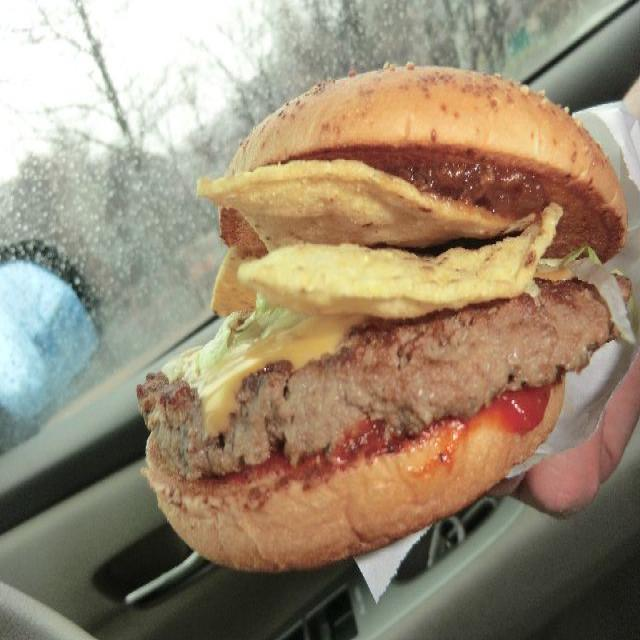Hamburger: (136, 68, 602, 557)
